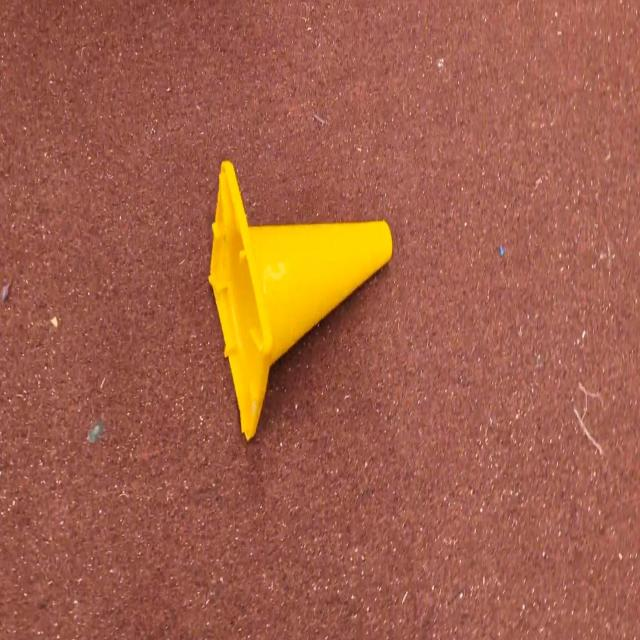frc_cone: (208, 159, 394, 444)
